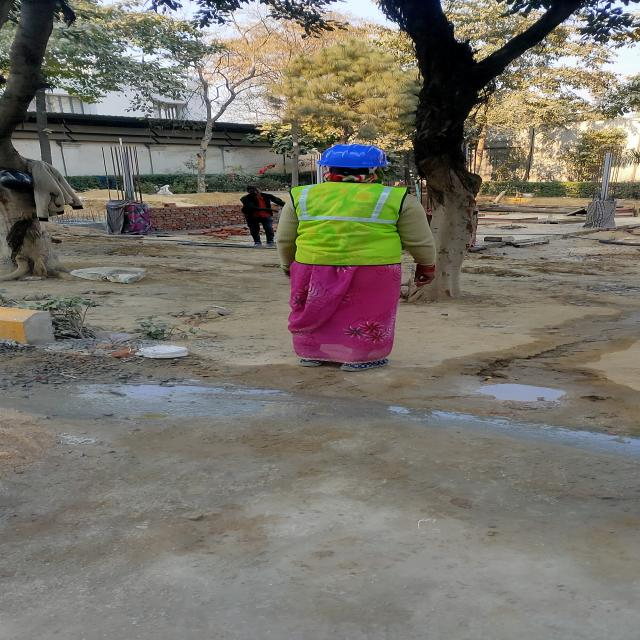safe: (280, 141, 438, 372)
unsafe: (241, 185, 285, 247)
